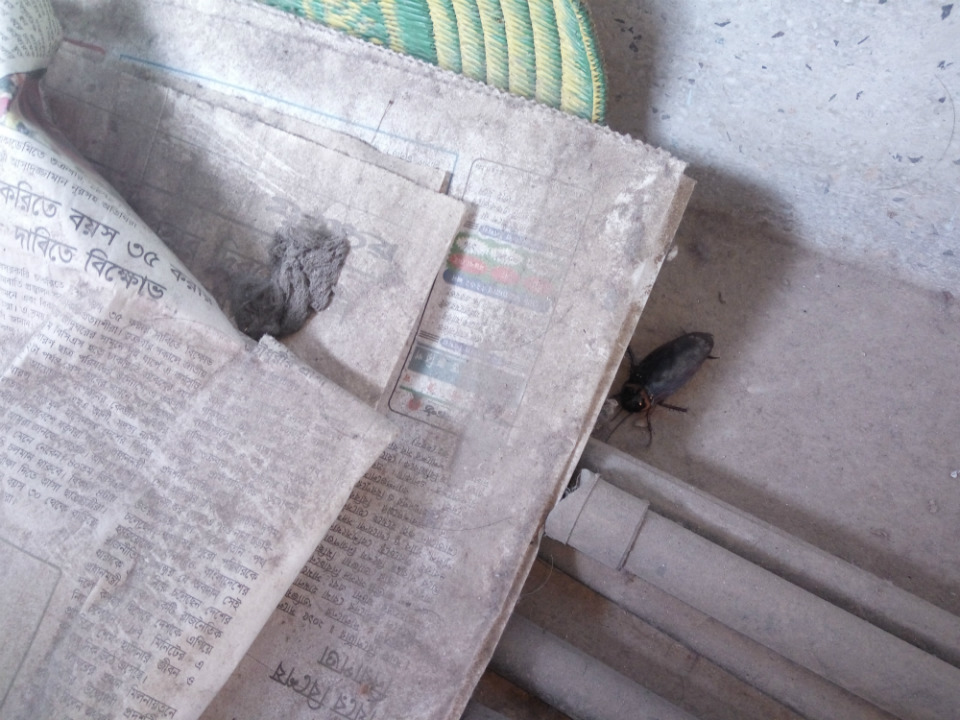cockroach: (544, 331, 787, 439)
